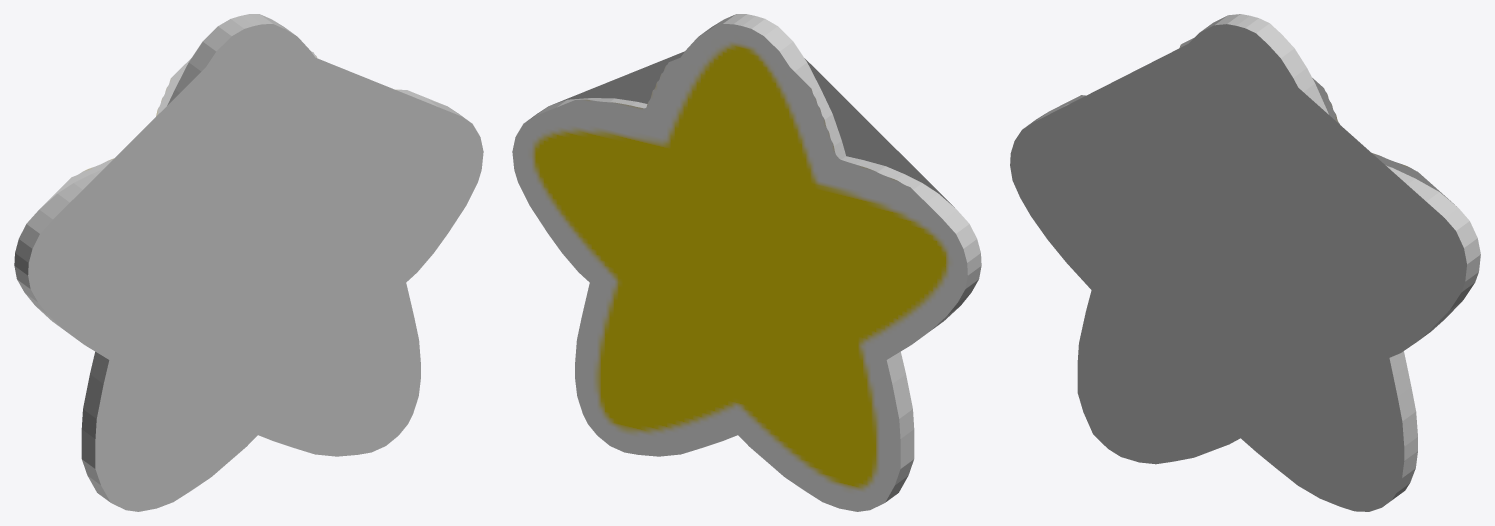
Rendered from cardboardStar.fbx.
The picture shows the model from 3 angles, left to right: view 1: azimuth 30°, elevation 25°; view 2: azimuth 150°, elevation 25°; view 3: azimuth 330°, elevation 25°; orthographic projection.
Parts seen in each view (by area): view 1: cardboardStar; view 2: cardboardStar; view 3: cardboardStar.
Part boxes in pixels (<box>): cardboardStar: <box>14,14,483,511</box>; cardboardStar: <box>512,14,981,511</box>; cardboardStar: <box>1010,14,1480,511</box>.
Size of the model in its own units: 82 by 78.92 by 4.29.
